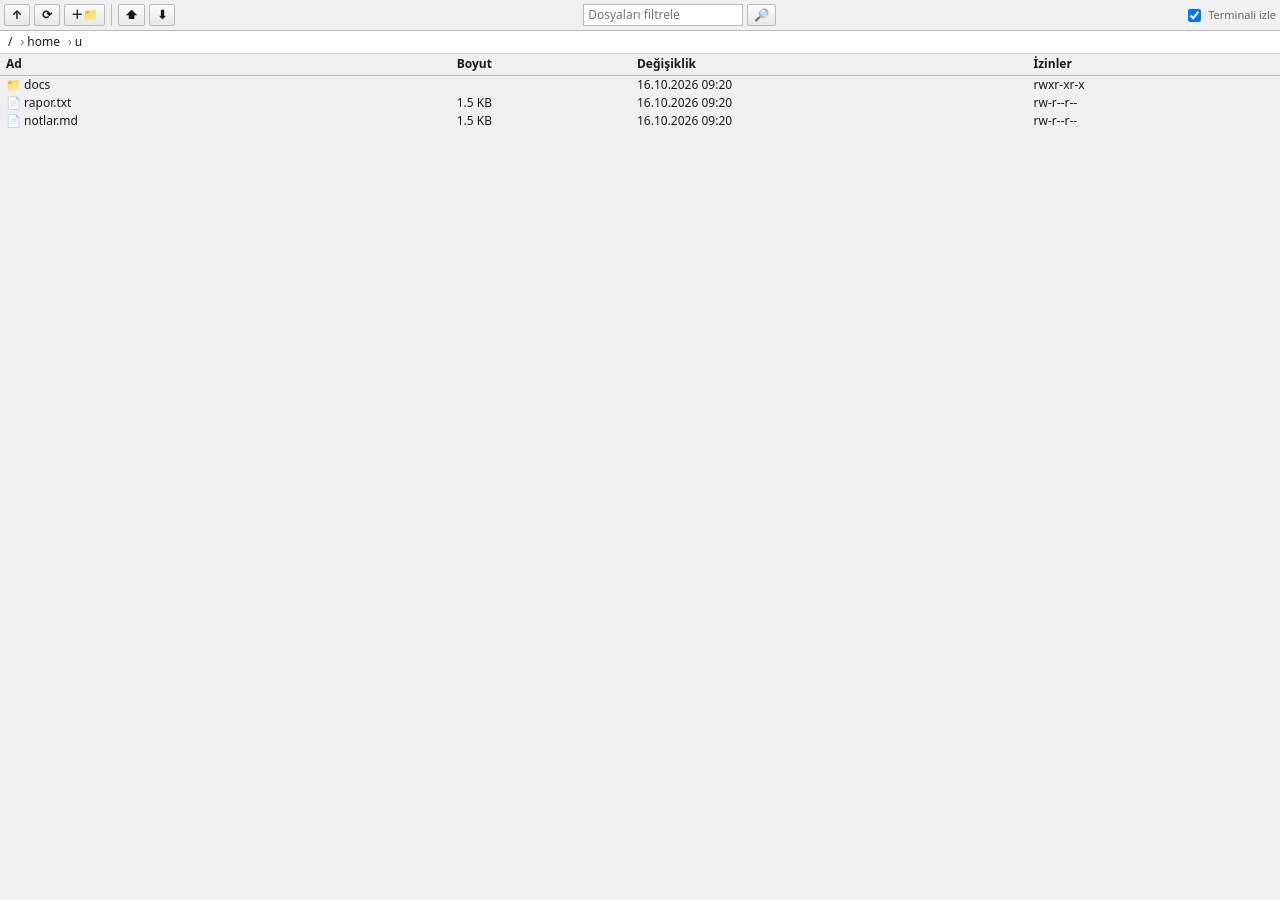
the info dialog shows size, rwx and octal permissions, owner and path
Click the text "rapor.txt" at (48, 102), box [0, 94, 451, 112]
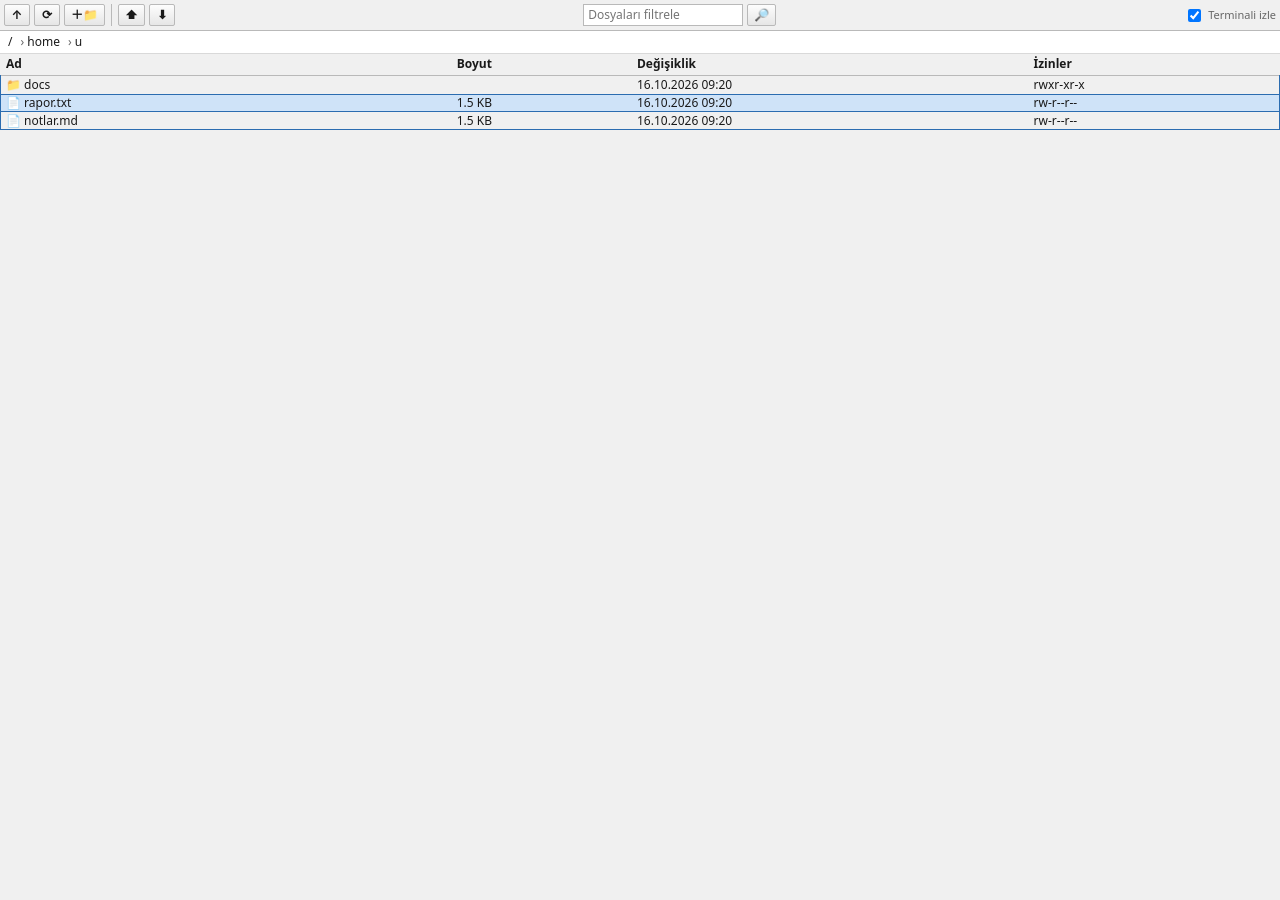
Right-click the row "📄 rapor.txt 1.5 KB 16.10.2026 09:20 rw-r--r--" at (640, 103), box [0, 94, 1279, 112]
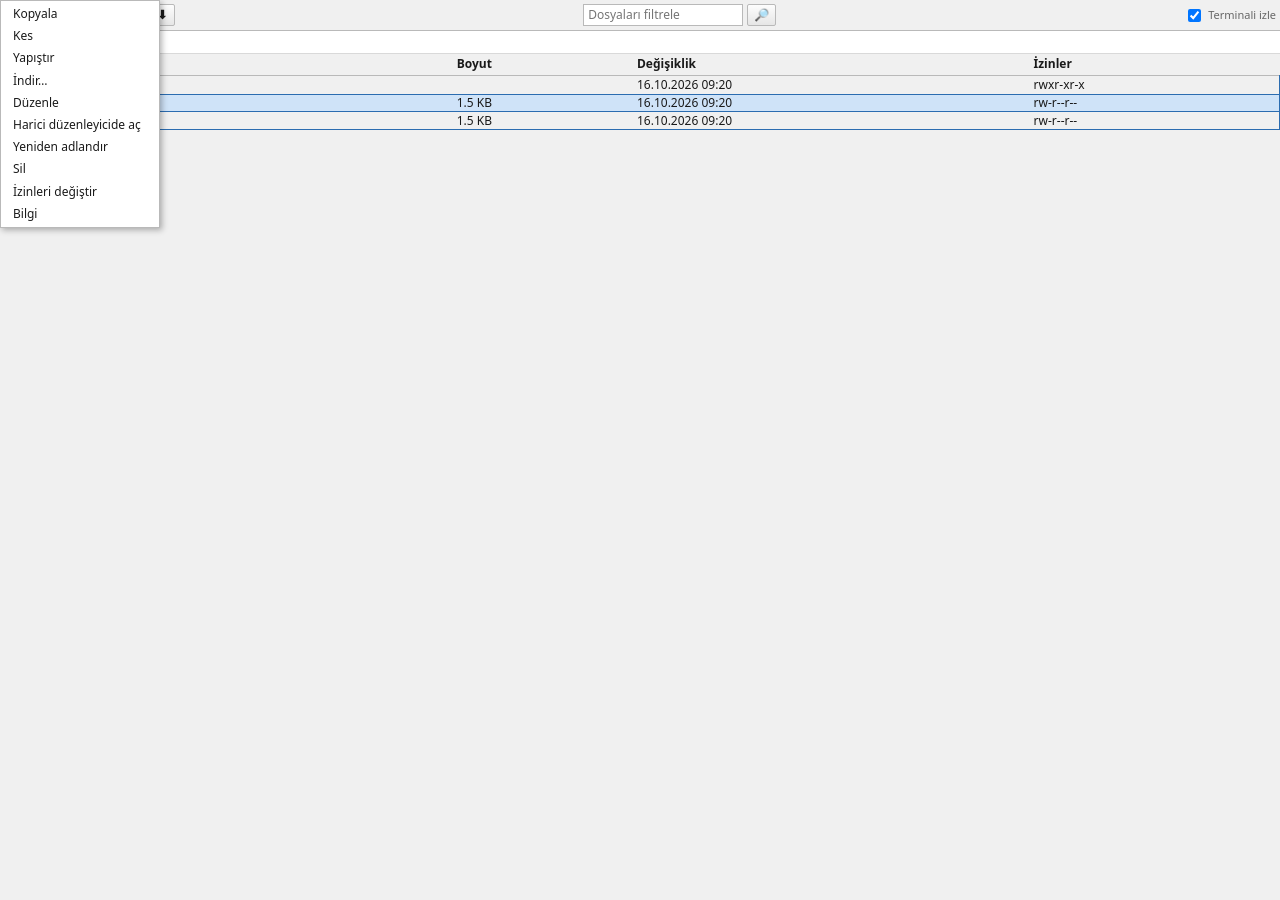
Click the menu item "Bilgi" at (80, 214), box [3, 203, 157, 225]
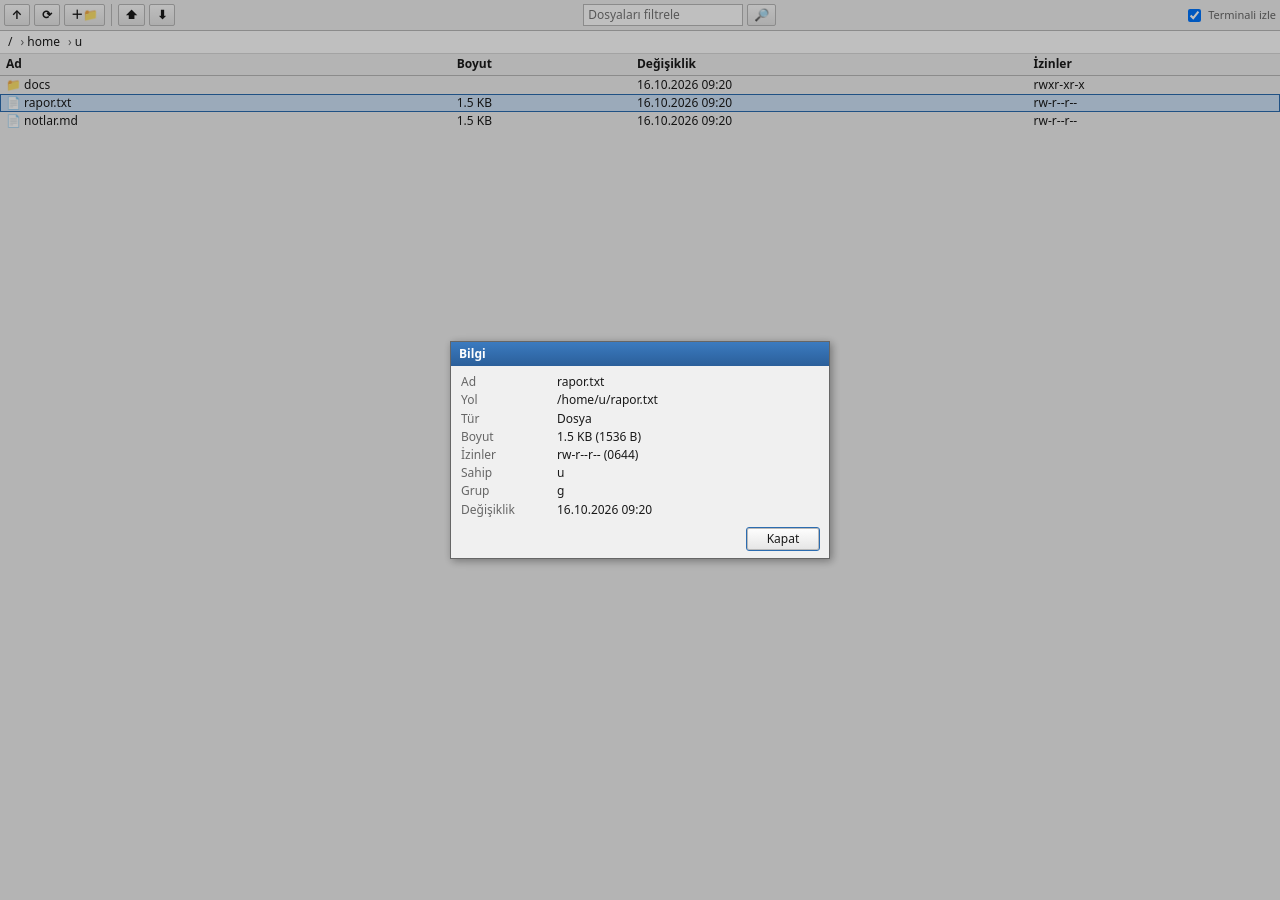
expect the text "/home/u/rapor.txt" is shown: met, box [557, 391, 658, 408]
expect the text "1.5 KB (1536 B)" is shown: met, box [557, 428, 641, 445]
expect the text "rw-r--r-- (0644)" is shown: met, box [557, 446, 638, 463]
